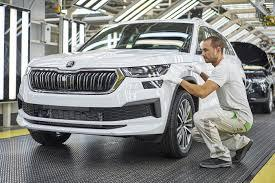skoda: (66, 61, 76, 67)
